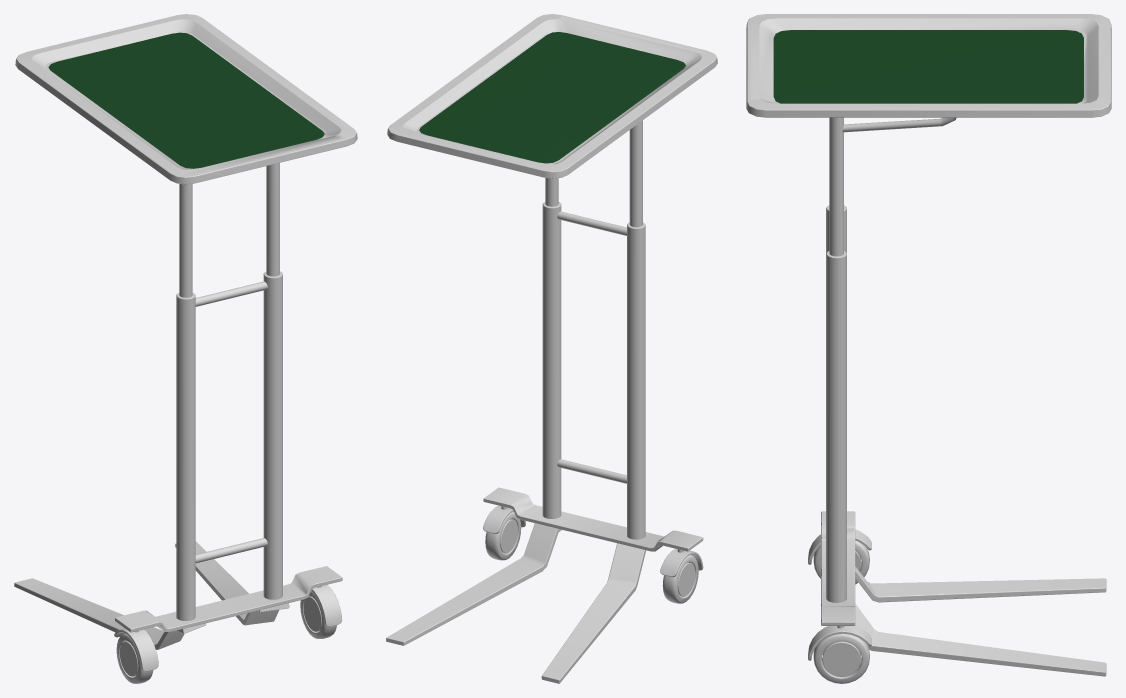
Rendered from Trolley 2.fbx.
3 renders of one model, left to right at view 1: azimuth 30°, elevation 25°; view 2: azimuth 150°, elevation 25°; view 3: azimuth 270°, elevation 25°, orthographic. The views are drawn at different scales.
Parts seen in each view (by area): view 1: Trolley 2; view 2: Trolley 2; view 3: Trolley 2.
Boxes of the visible parts, x1=… form: Trolley 2: x1=14, y1=14, x2=357, y2=683; Trolley 2: x1=386, y1=14, x2=717, y2=683; Trolley 2: x1=746, y1=14, x2=1111, y2=683.
Size of what is drawn, in the model's own units: 45.29 by 109 by 62.91.
